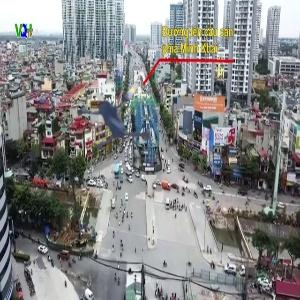drone: (68, 61, 177, 170)
